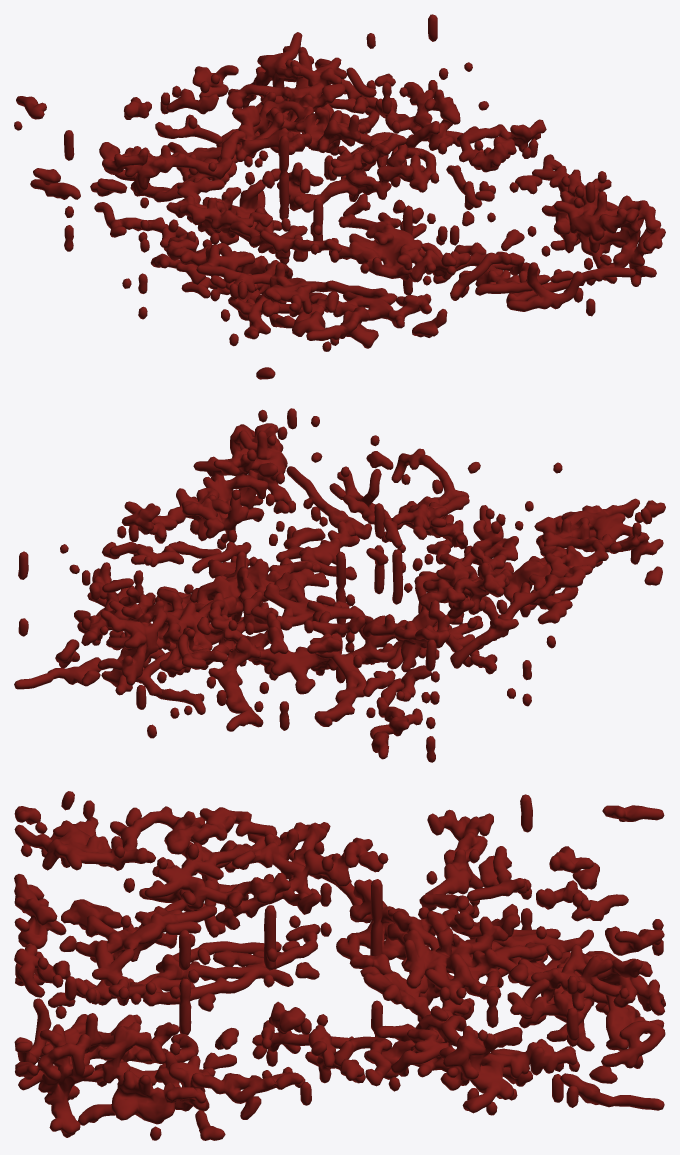
The model's file is mitos_75reduced.fbx.
The picture shows the model from 3 angles, top to bottom: view 1: azimuth 30°, elevation 25°; view 2: azimuth 150°, elevation 25°; view 3: azimuth 270°, elevation 25°; orthographic projection. The views are drawn at different scales.
Visible parts, largest first — view 1: Metaball; view 2: Metaball; view 3: Metaball.
Part boxes in pixels (x1=…): Metaball: x1=14, y1=14, x2=665, y2=379; Metaball: x1=14, y1=408, x2=665, y2=762; Metaball: x1=14, y1=791, x2=665, y2=1140.
Bounding box in the file's own units: 347 × 107 × 399.
